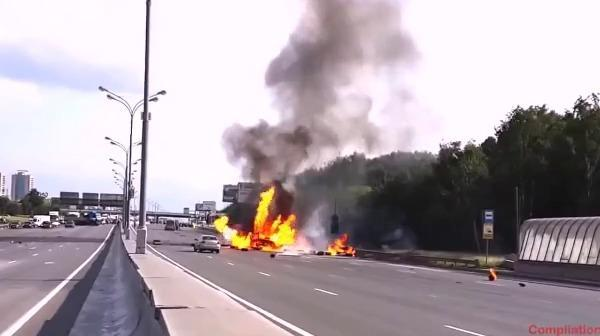fire: (211, 183, 360, 261), (490, 265, 499, 281)
